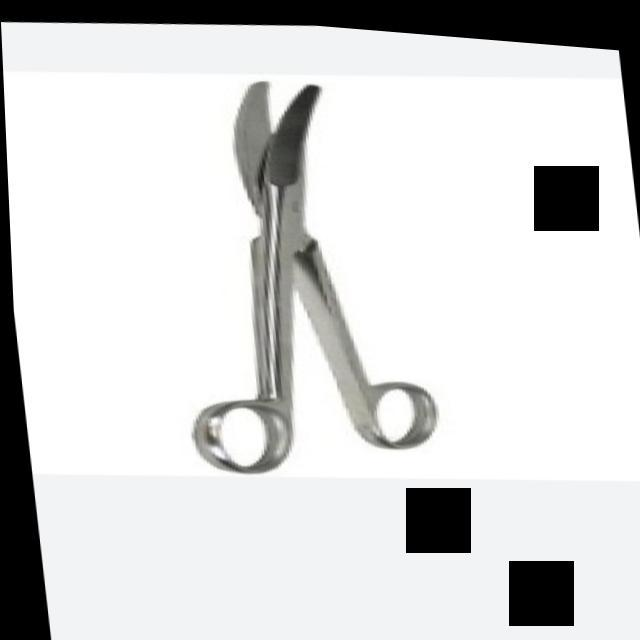Curved Mayo: (135, 57, 453, 490)
